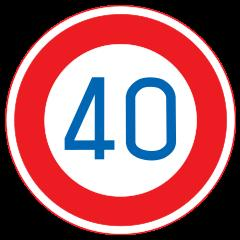Speed limit -40-: (47, 62, 190, 174)
